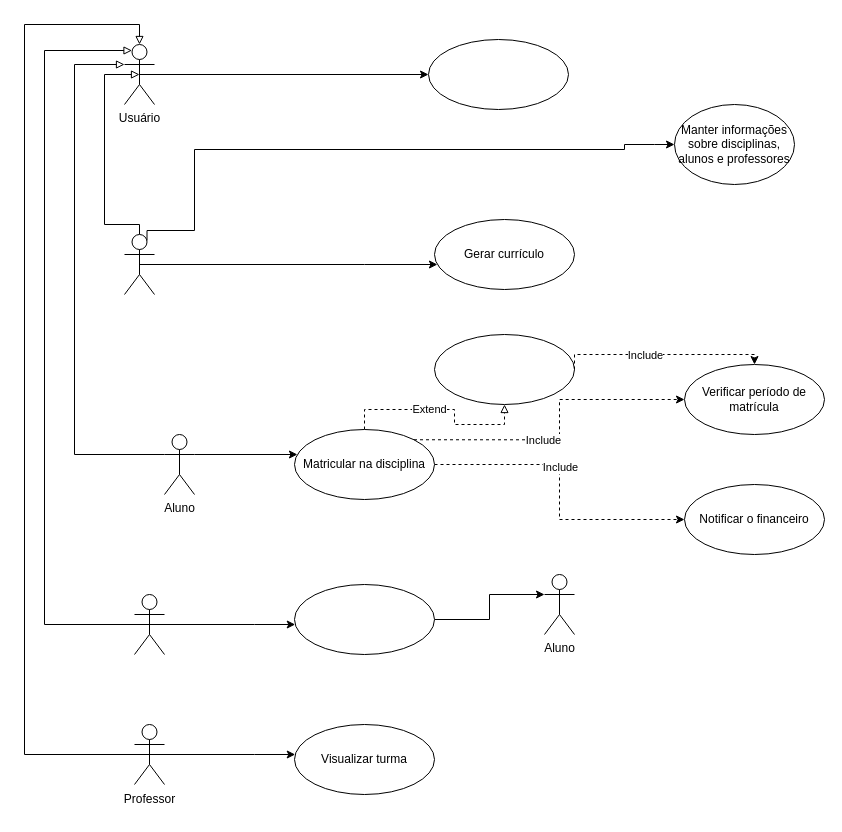
This 842x832 diagram has some shape labels left out. Each missing label, with the box of its shape:
Cancelar matrícula: (434, 334, 574, 404)
Financeiro: (134, 594, 164, 654)
Logar: (428, 38, 568, 110)
Realizar cobrança: (294, 584, 434, 654)
Secretária: (124, 234, 154, 294)
